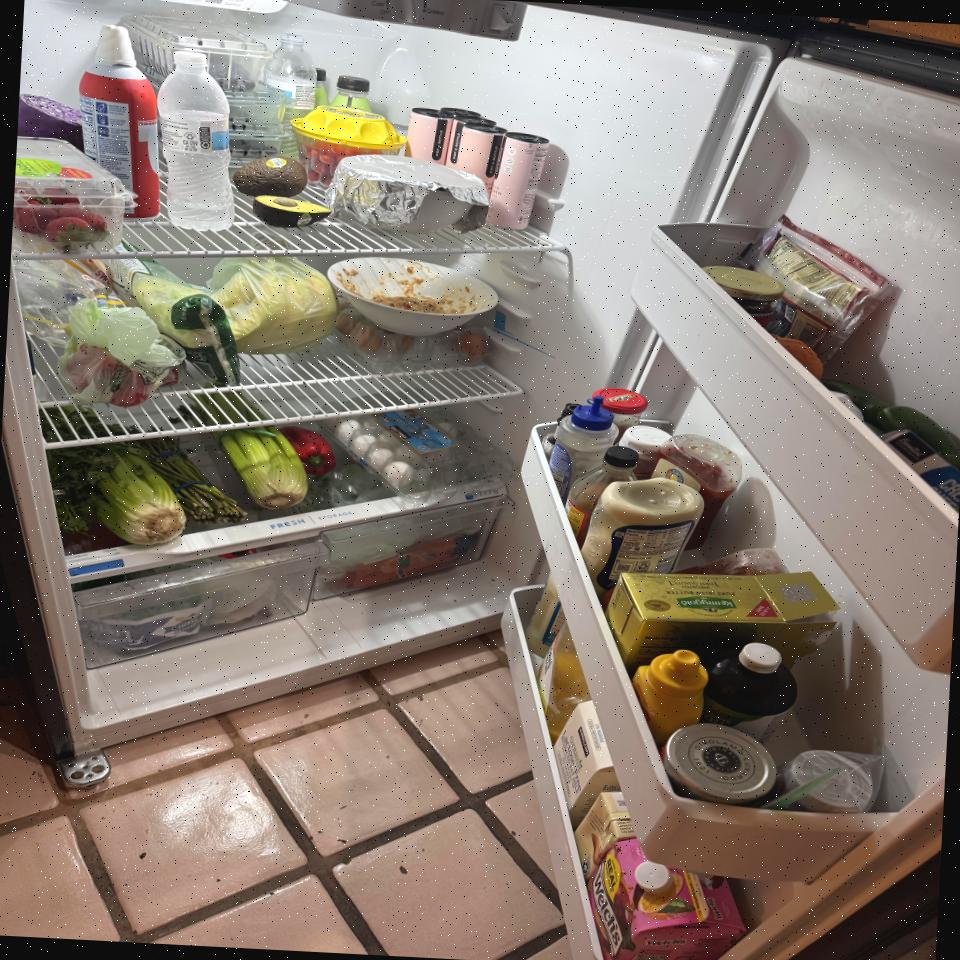Aguacate: (233, 156, 311, 197), (253, 195, 330, 231)
Huevos: (330, 410, 504, 502)
Mantequilla: (601, 561, 841, 678)
Tomate: (298, 140, 385, 190)
Zanahoria: (344, 532, 466, 594)
bell pepper: (278, 424, 338, 474)
ketchup: (646, 433, 744, 556)
mayonnaise: (579, 474, 707, 598)
mustard: (630, 647, 710, 738)
strawberries: (12, 178, 120, 253)
